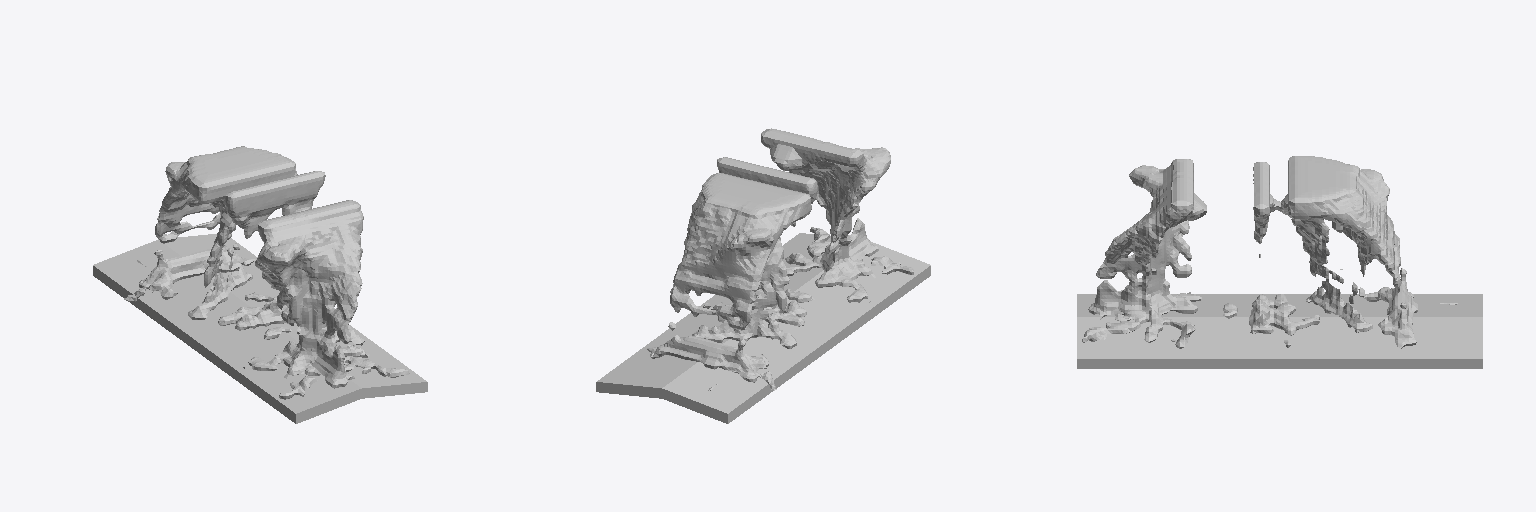
File: Watersim_000025.obj
The picture shows the model from 3 angles: view 1: azimuth 30°, elevation 25°; view 2: azimuth 150°, elevation 25°; view 3: azimuth 270°, elevation 25°; orthographic projection.
Parts seen in each view (by area): view 1: Domain_Cube.006, Straße_Cube.007; view 2: Domain_Cube.006, Straße_Cube.007; view 3: Domain_Cube.006, Straße_Cube.007.
Boxes of the visible parts, box(x1,y1,x2,y2) form: Domain_Cube.006: box(124, 146, 409, 399); Straße_Cube.007: box(93, 234, 427, 423); Domain_Cube.006: box(647, 128, 913, 390); Straße_Cube.007: box(596, 233, 930, 423); Domain_Cube.006: box(1082, 156, 1457, 348); Straße_Cube.007: box(1077, 294, 1482, 368).
Size of the model in its own units: 2.41 by 2.59 by 6.06.